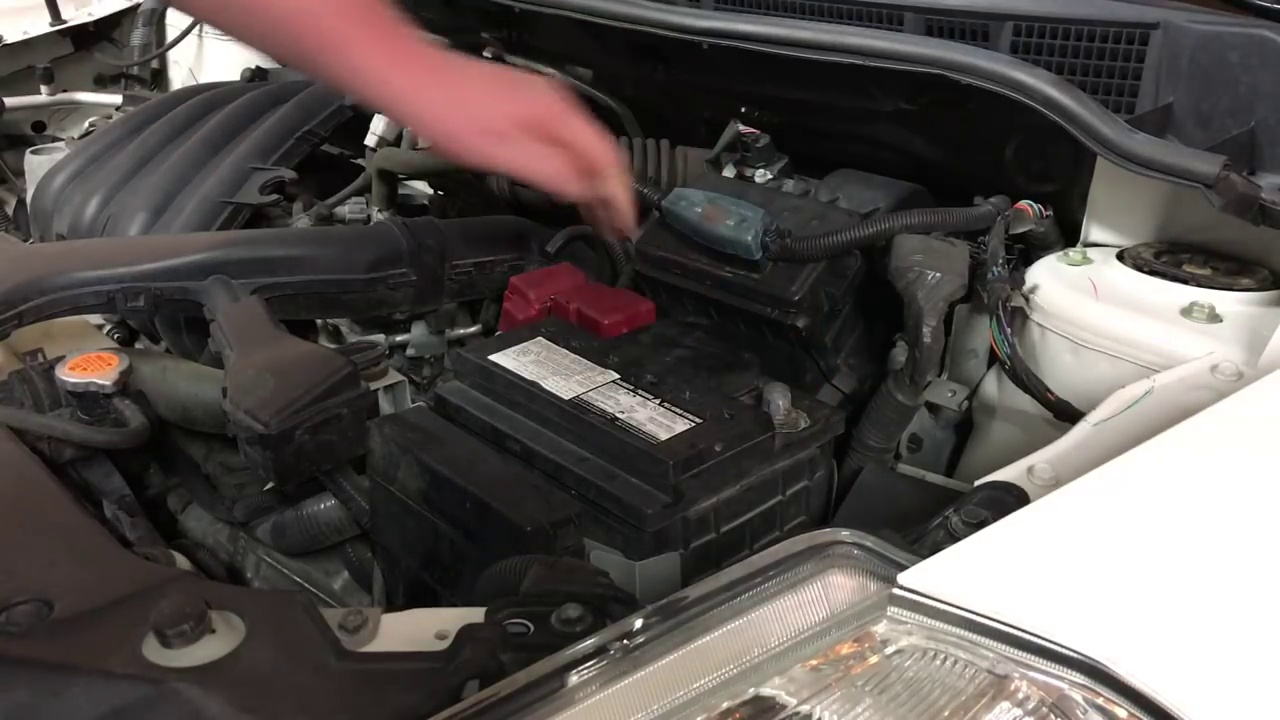battery: (457, 283, 798, 486)
neg_disconnected: (723, 362, 837, 437)
pos_connected: (491, 262, 643, 350)
